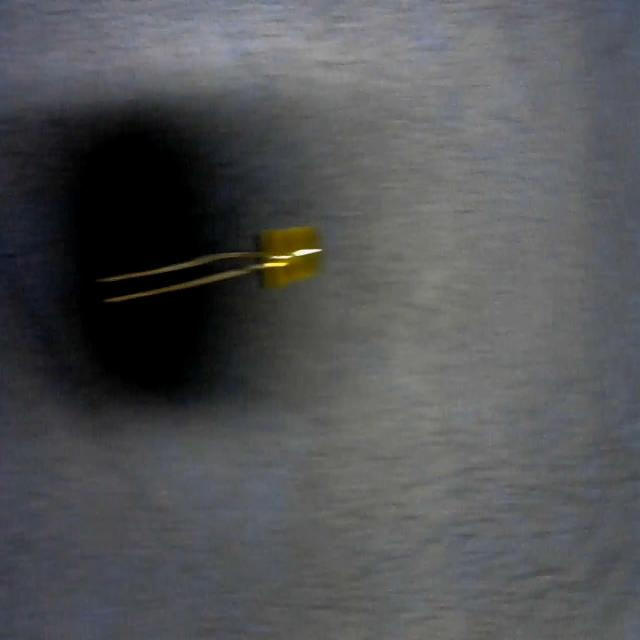LED: (106, 219, 324, 314)
